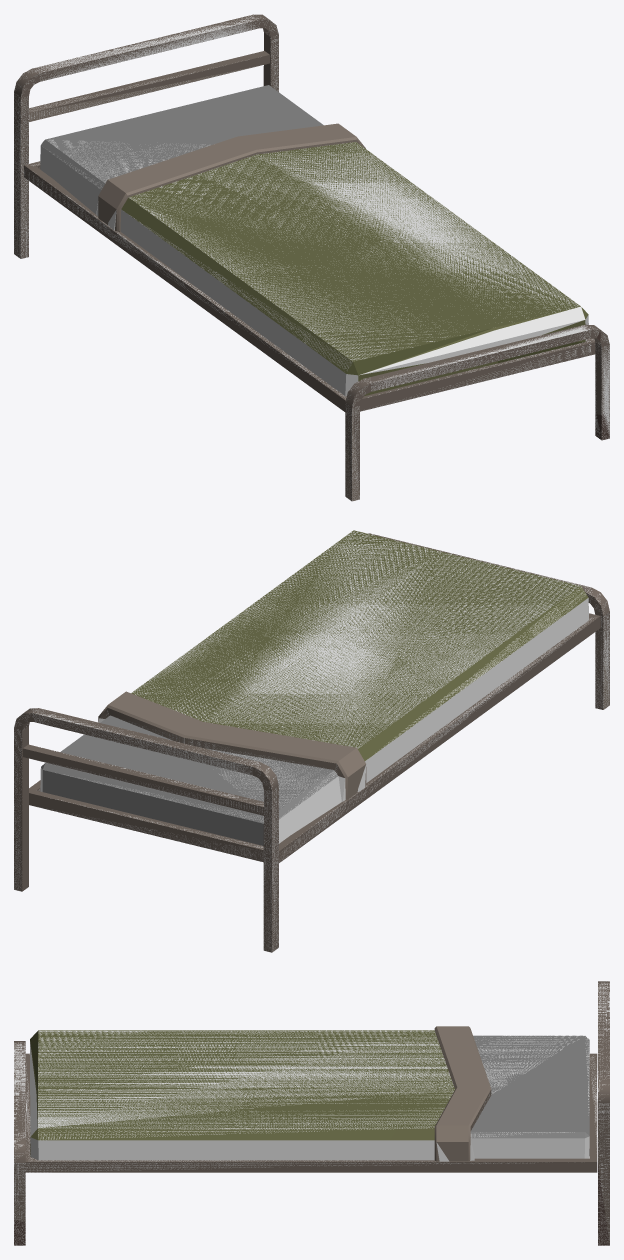
File: model_bed_02.fbx
3 views of the same model, one above another, from view 1: azimuth 30°, elevation 25°; view 2: azimuth 150°, elevation 25°; view 3: azimuth 270°, elevation 25° (orthographic). The views are drawn at different scales.
Visible parts, largest first — view 1: model_bed_02, model_bed_02_col; view 2: model_bed_02, model_bed_02_col; view 3: model_bed_02, model_bed_02_col.
Boxes of the visible parts, x1=… form: model_bed_02: x1=14, y1=14, x2=609, y2=501; model_bed_02_col: x1=14, y1=15, x2=609, y2=500; model_bed_02: x1=14, y1=530, x2=609, y2=952; model_bed_02_col: x1=14, y1=531, x2=609, y2=951; model_bed_02: x1=14, y1=981, x2=609, y2=1245; model_bed_02_col: x1=14, y1=981, x2=609, y2=1245.
Bounding box in the file's own units: 135 × 90.83 × 307.
Materials: 2 (1 with a texture image).
